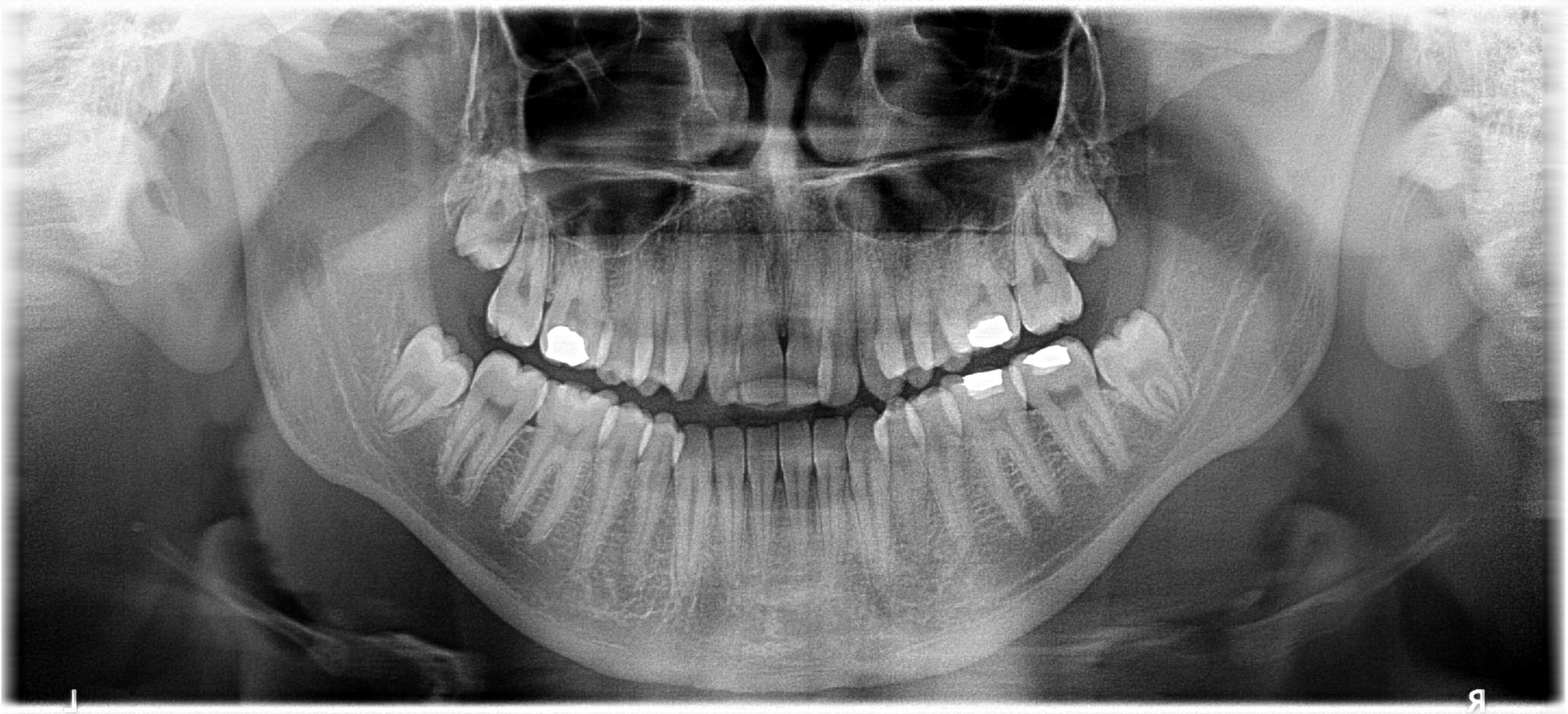Premolars: (522, 164, 1568, 597), (317, 204, 931, 588), (213, 236, 690, 601), (579, 153, 1568, 303), (250, 162, 781, 346)
